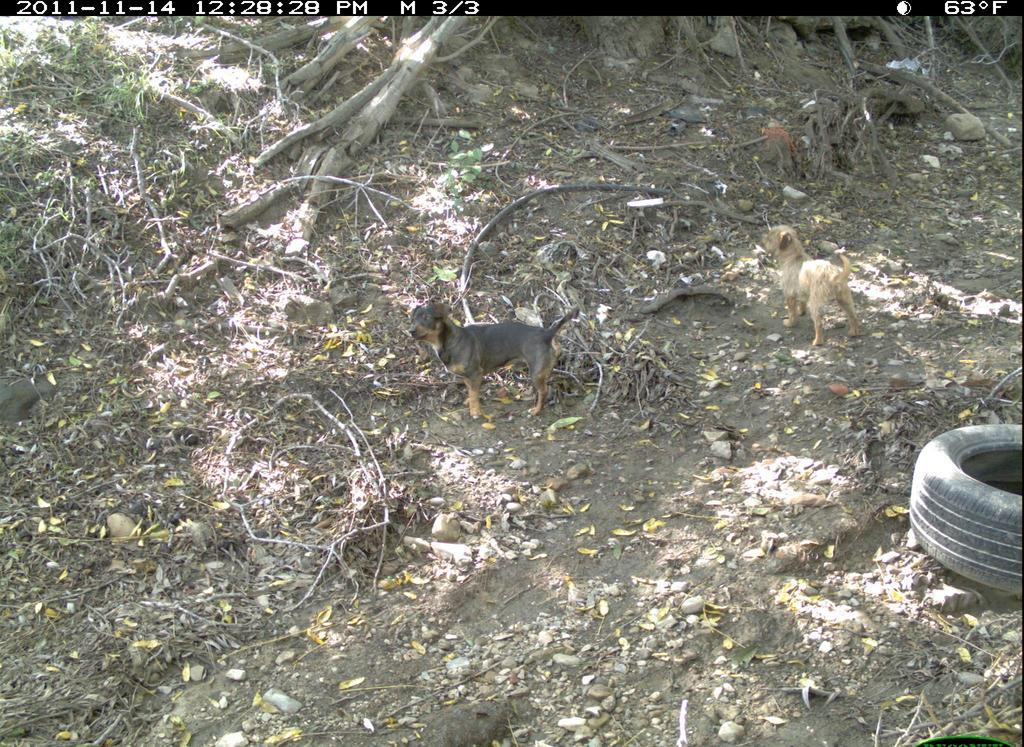dog: (411, 299, 589, 423), (758, 221, 871, 355)
